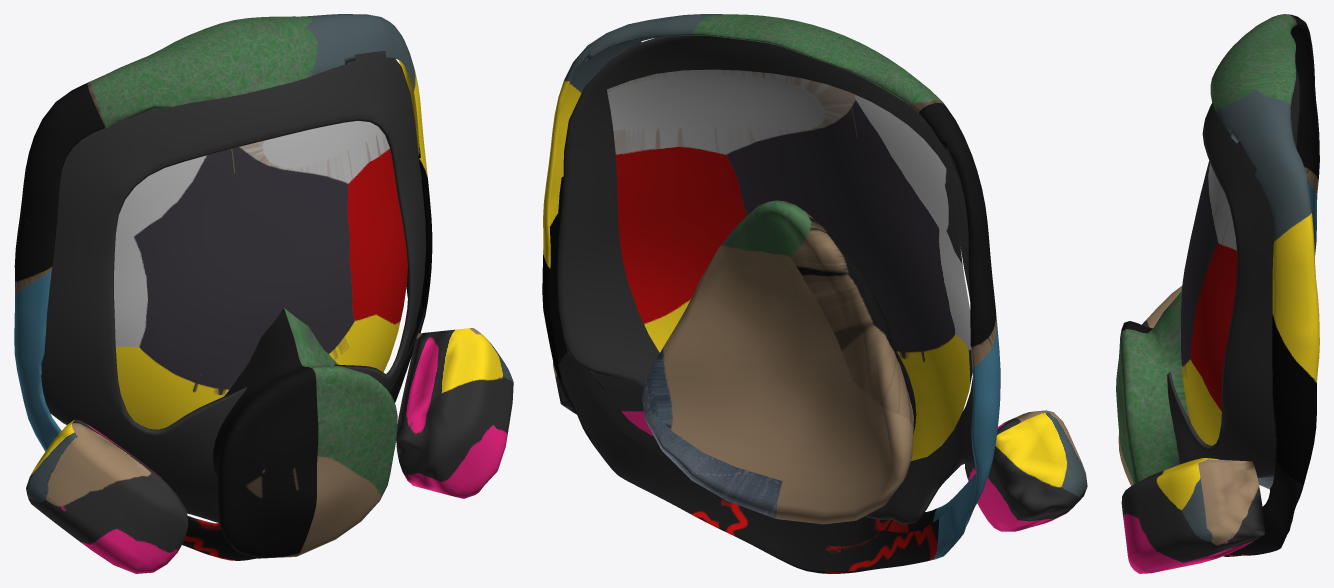
File: Mascara.fbx
3 views of the same model, side by side, from view 1: azimuth 30°, elevation 25°; view 2: azimuth 150°, elevation 25°; view 3: azimuth 270°, elevation 25° (orthographic). The views are drawn at different scales.
Visible parts, largest first — view 1: Hazmask.001; view 2: Hazmask.001; view 3: Hazmask.001.
Boxes of the visible parts, x1,y1,x2,y2 form: Hazmask.001: [14, 14, 513, 573]; Hazmask.001: [542, 14, 1087, 573]; Hazmask.001: [1116, 14, 1319, 573].
Bounding box in the file's own units: 99.31 × 101 × 37.97.
